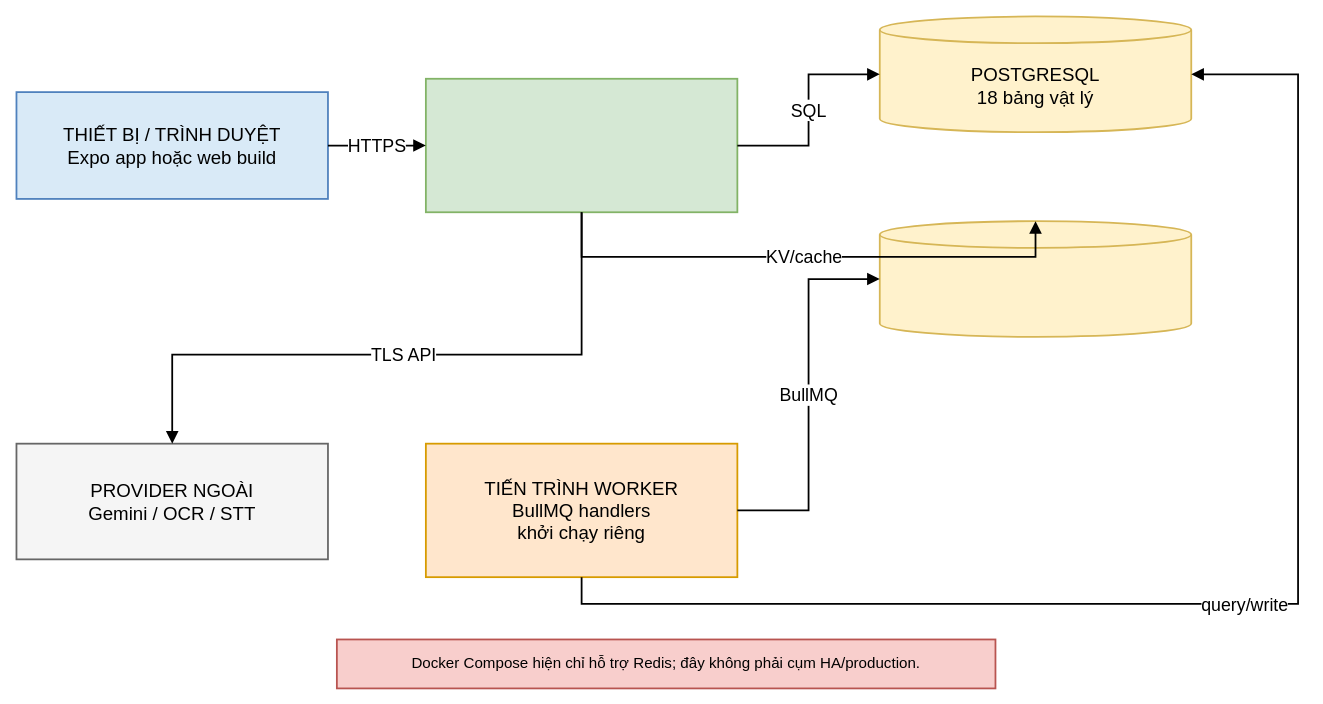
The diagram is 1323 pixels wide and 704 high, and some of its shapes have lost their labels. Each missing label, with the centre of its shape:
"REDIS state • cache • queue" belongs at [1035,278].
"TIẾN TRÌNH API Node.js + Express port 3000" belongs at [581,145].
